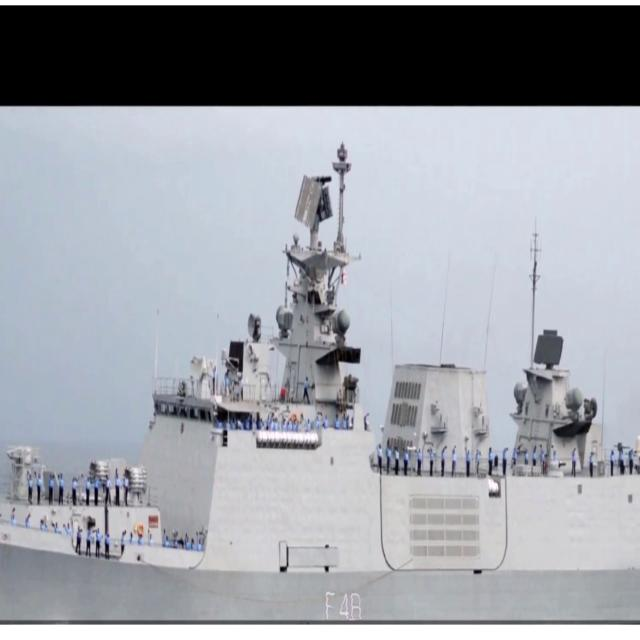OCR: (315, 583, 367, 619)
